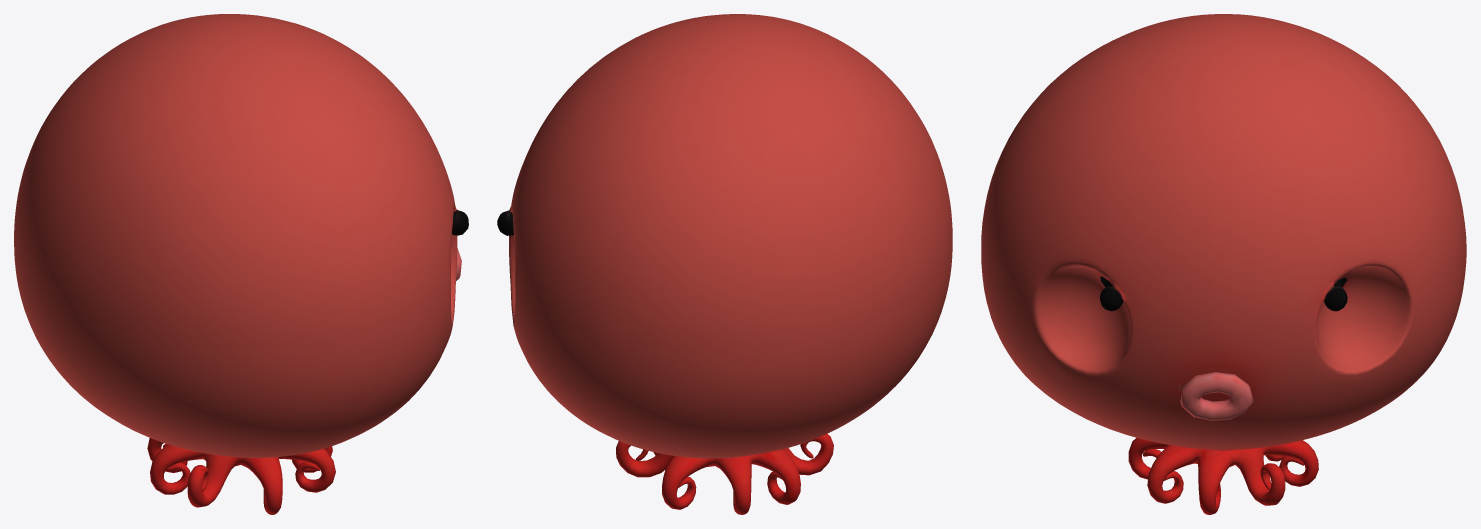
The model's file is Octopus.glb.
The picture shows the model from 3 angles, left to right: view 1: azimuth 30°, elevation 25°; view 2: azimuth 150°, elevation 25°; view 3: azimuth 270°, elevation 25°; orthographic projection.
Visible parts, largest first — view 1: tripo_node_c02166f9-7a21-4cc6-b760-a533e3c968e5; view 2: tripo_node_c02166f9-7a21-4cc6-b760-a533e3c968e5; view 3: tripo_node_c02166f9-7a21-4cc6-b760-a533e3c968e5.
Boxes of the visible parts, x1,y1,x2,y2 form: tripo_node_c02166f9-7a21-4cc6-b760-a533e3c968e5: [14, 14, 468, 514]; tripo_node_c02166f9-7a21-4cc6-b760-a533e3c968e5: [497, 14, 952, 514]; tripo_node_c02166f9-7a21-4cc6-b760-a533e3c968e5: [981, 14, 1466, 514].
Bounding box in the file's own units: 0.9032 × 0.9784 × 0.9613.
1 material, 1 textured.
